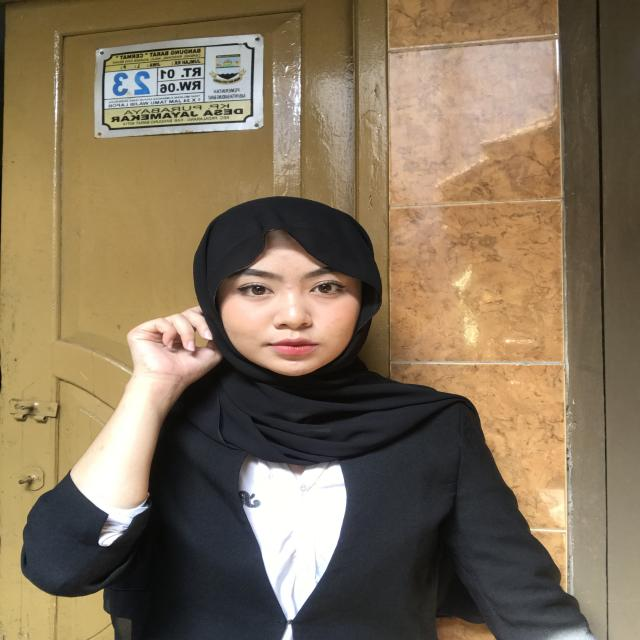ibu: (121, 311, 262, 454)
